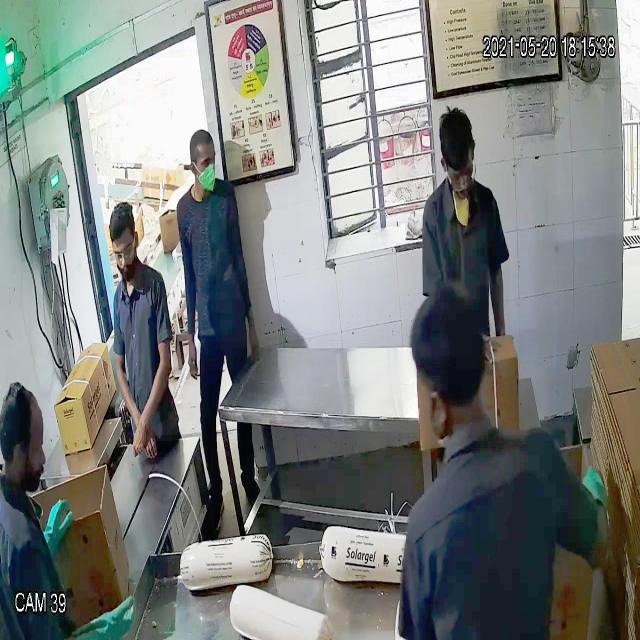glasses: (440, 150, 480, 196), (110, 236, 142, 264)
no-glass: (186, 150, 224, 180)
